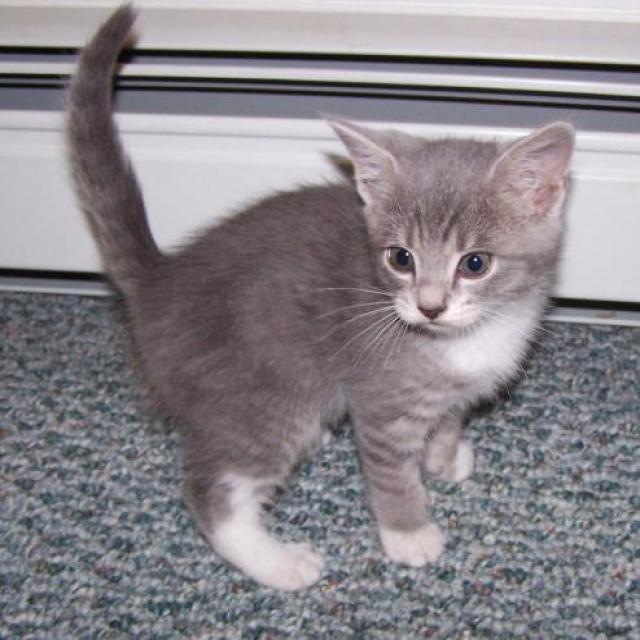Cats: (59, 0, 575, 591)
